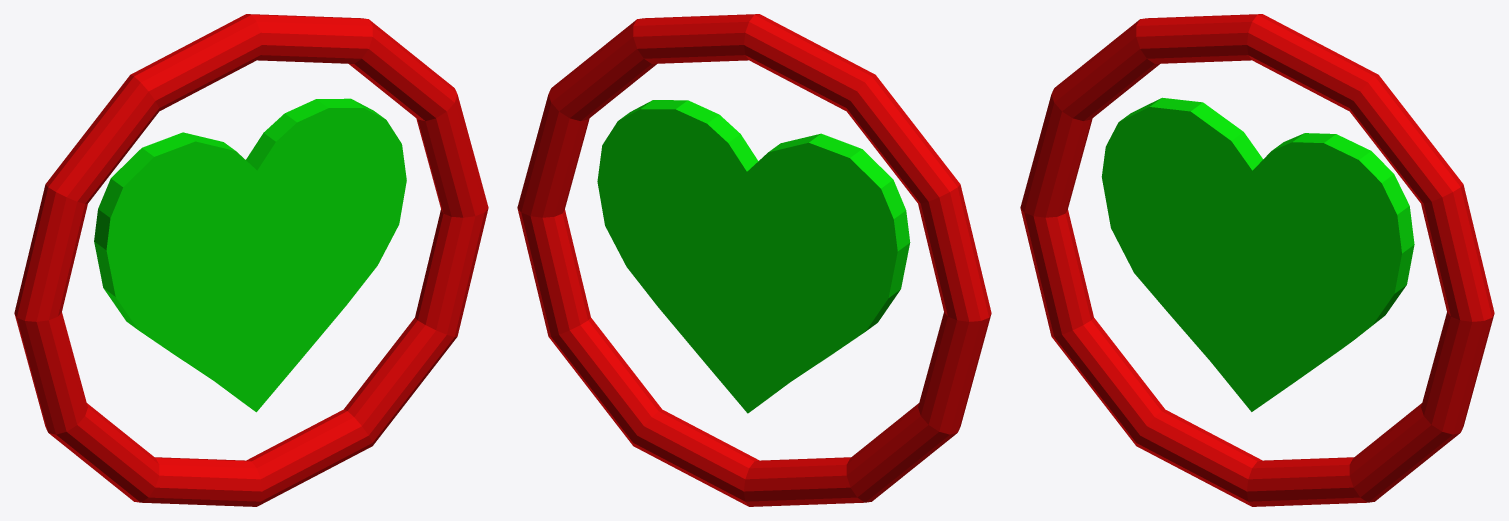
File: HealthPickup.fbx
3 views of the same model, side by side, from view 1: azimuth 30°, elevation 25°; view 2: azimuth 150°, elevation 25°; view 3: azimuth 330°, elevation 25° (orthographic).
Visible parts, largest first — view 1: polySurface10; view 2: polySurface10; view 3: polySurface10.
Part boxes in pixels (bbox=[...]): polySurface10: bbox=[14, 14, 488, 506]; polySurface10: bbox=[517, 14, 991, 506]; polySurface10: bbox=[1020, 14, 1494, 506].
Size of the model in its own units: 19.12 by 19.12 by 1.5.
